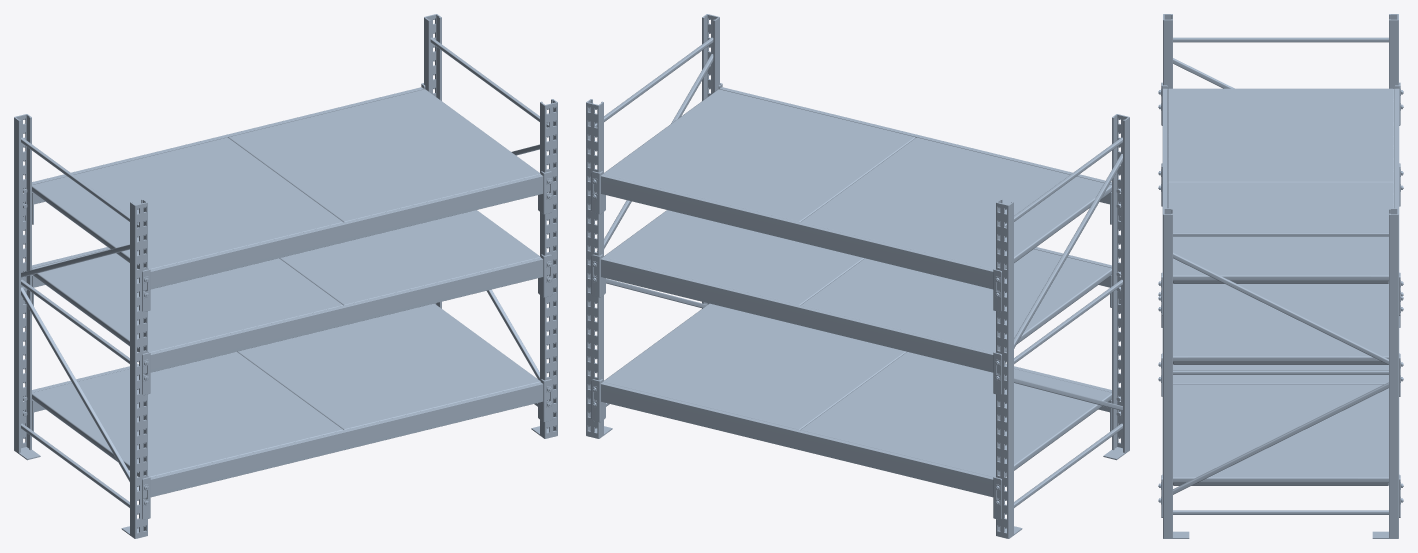
File: rack_large_empty_a02.glb
3 renders of one model, left to right at view 1: azimuth 30°, elevation 25°; view 2: azimuth 150°, elevation 25°; view 3: azimuth 270°, elevation 25°, orthographic. The views are drawn at different scales.
Parts seen in each view (by area): view 1: sm_rack_a02_mesh_00; view 2: sm_rack_a02_mesh_00; view 3: sm_rack_a02_mesh_00.
Part boxes in pixels (left/top/right/bottom): sm_rack_a02_mesh_00: left=14, top=14, right=557, bottom=538; sm_rack_a02_mesh_00: left=586, top=14, right=1129, bottom=538; sm_rack_a02_mesh_00: left=1158, top=14, right=1403, bottom=538.
Size of the model in its own units: 4 by 3.01 by 2.07.
